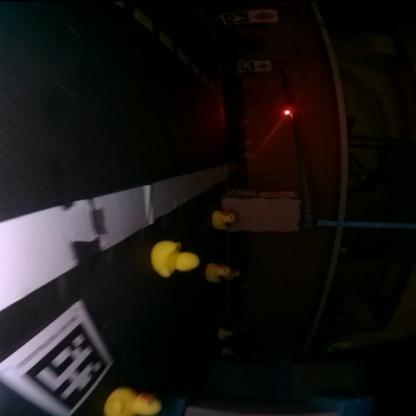Duckie: (152, 242, 198, 277), (105, 388, 161, 415), (205, 262, 229, 282), (212, 209, 234, 230), (226, 268, 240, 280), (219, 329, 233, 339), (223, 347, 230, 354), (245, 139, 252, 145), (246, 119, 252, 125), (246, 152, 252, 156)
Intersection sign: (253, 11, 277, 22), (258, 60, 272, 70)
QR code: (2, 301, 117, 415), (223, 13, 249, 22), (242, 61, 254, 71)
Traffic light: (284, 109, 292, 115)
